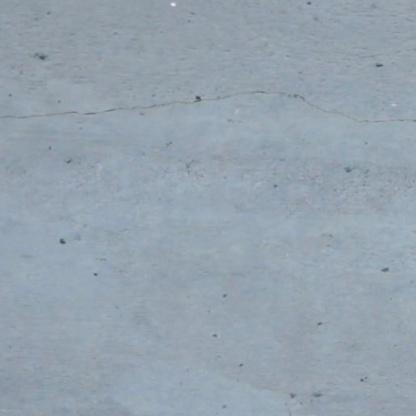Cracks: (0, 84, 416, 141)
